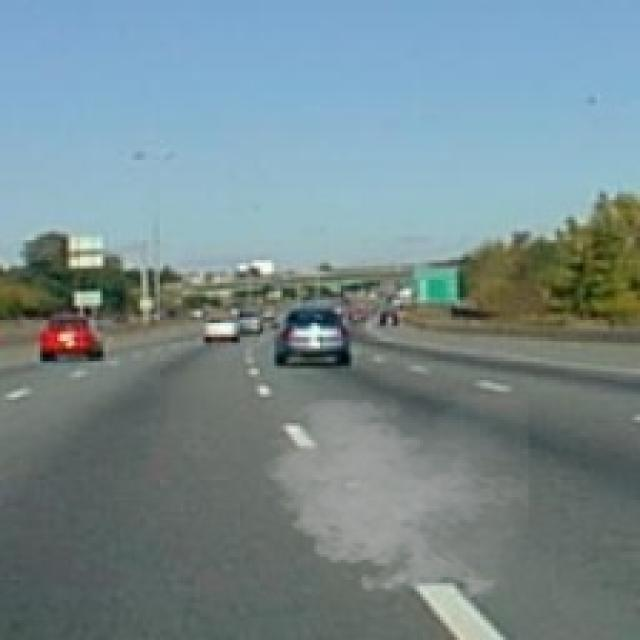smoke: (254, 391, 529, 606)
